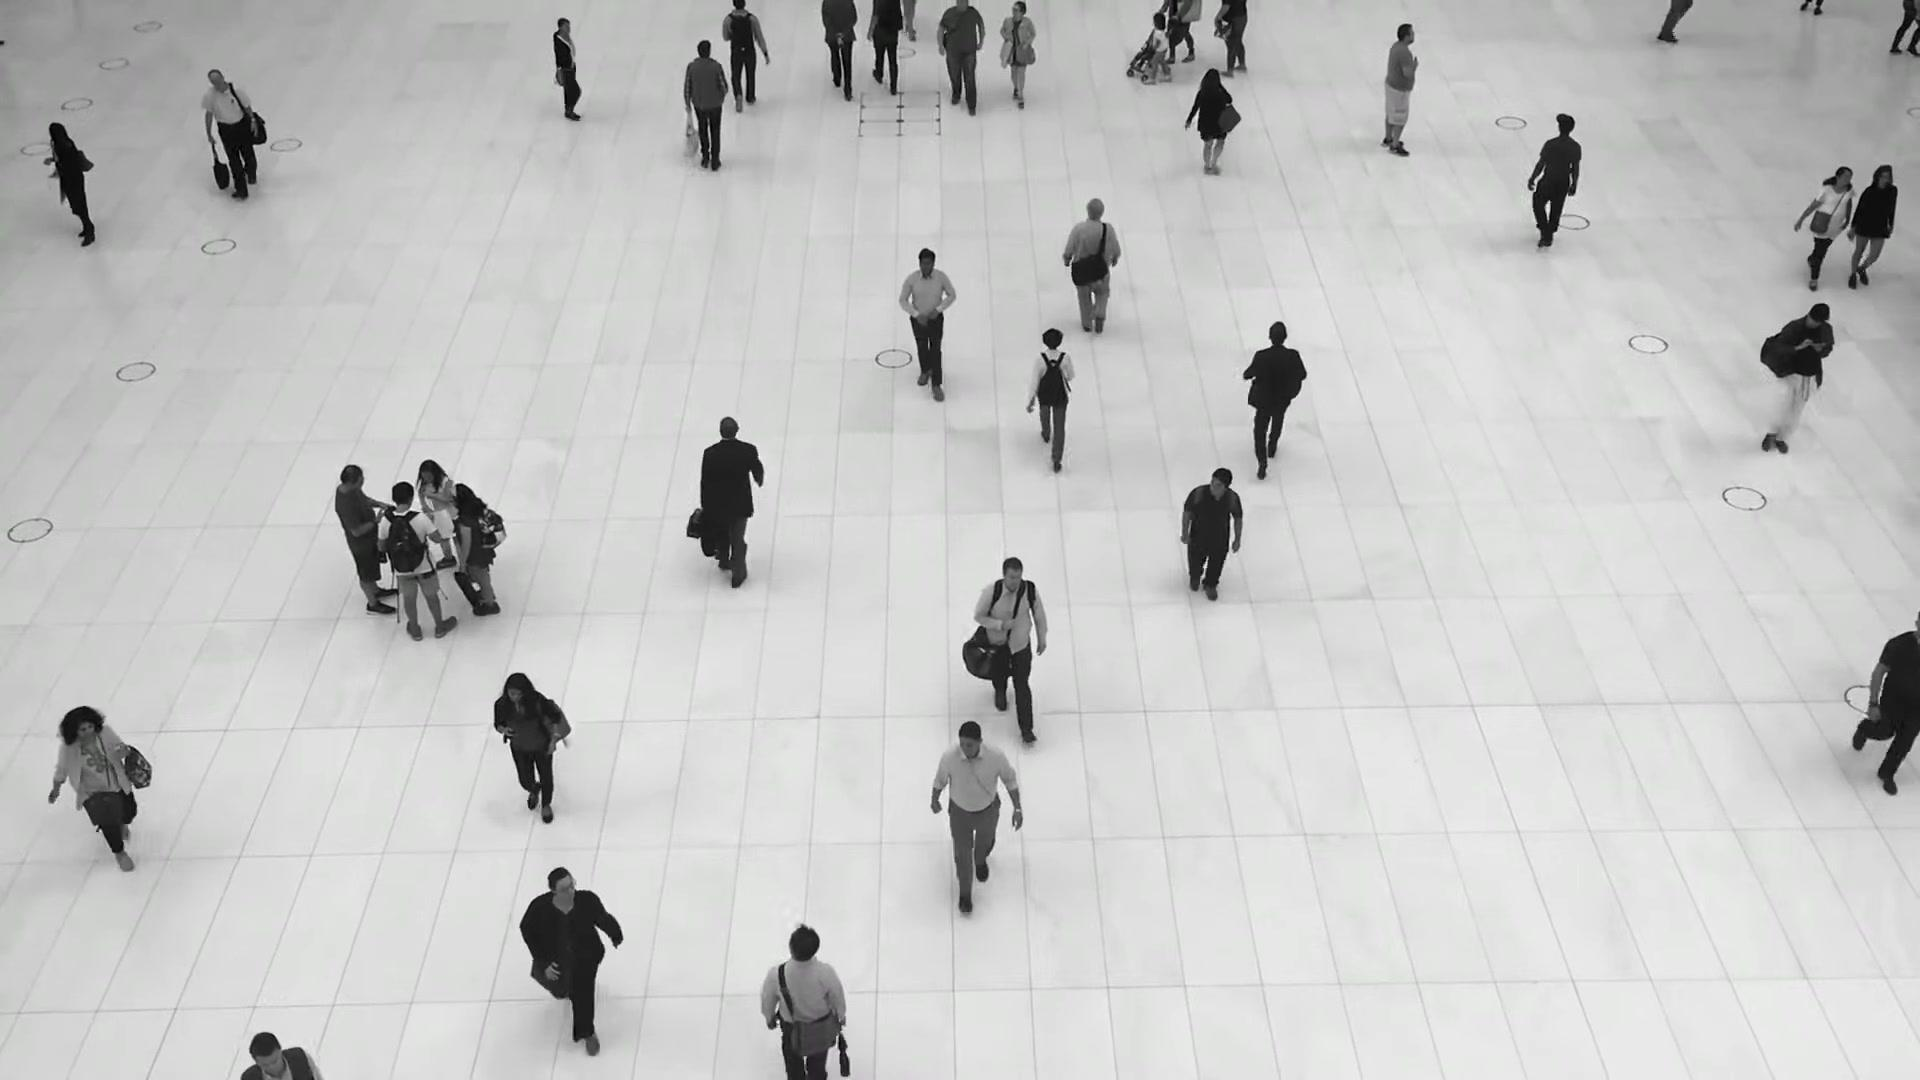person: (516, 865, 618, 1060), (928, 724, 1020, 913), (1842, 588, 1919, 790), (49, 706, 139, 872), (758, 927, 850, 1079), (974, 554, 1049, 735), (493, 675, 571, 844), (377, 481, 459, 641), (698, 418, 767, 600), (1757, 305, 1833, 467), (1242, 320, 1308, 479), (1175, 470, 1244, 619), (334, 466, 400, 615), (901, 248, 960, 402), (1062, 200, 1123, 347), (1523, 115, 1581, 261), (200, 67, 257, 197), (1798, 164, 1855, 288), (1845, 166, 1899, 298), (449, 484, 501, 617), (1027, 324, 1078, 462), (43, 121, 99, 244), (680, 43, 729, 180), (934, 0, 991, 113), (541, 18, 598, 122), (1191, 70, 1238, 184), (720, 0, 767, 114), (1381, 23, 1420, 157), (420, 459, 459, 580), (999, 1, 1038, 108), (820, 0, 858, 96), (866, 0, 902, 94), (1147, 12, 1172, 85)
